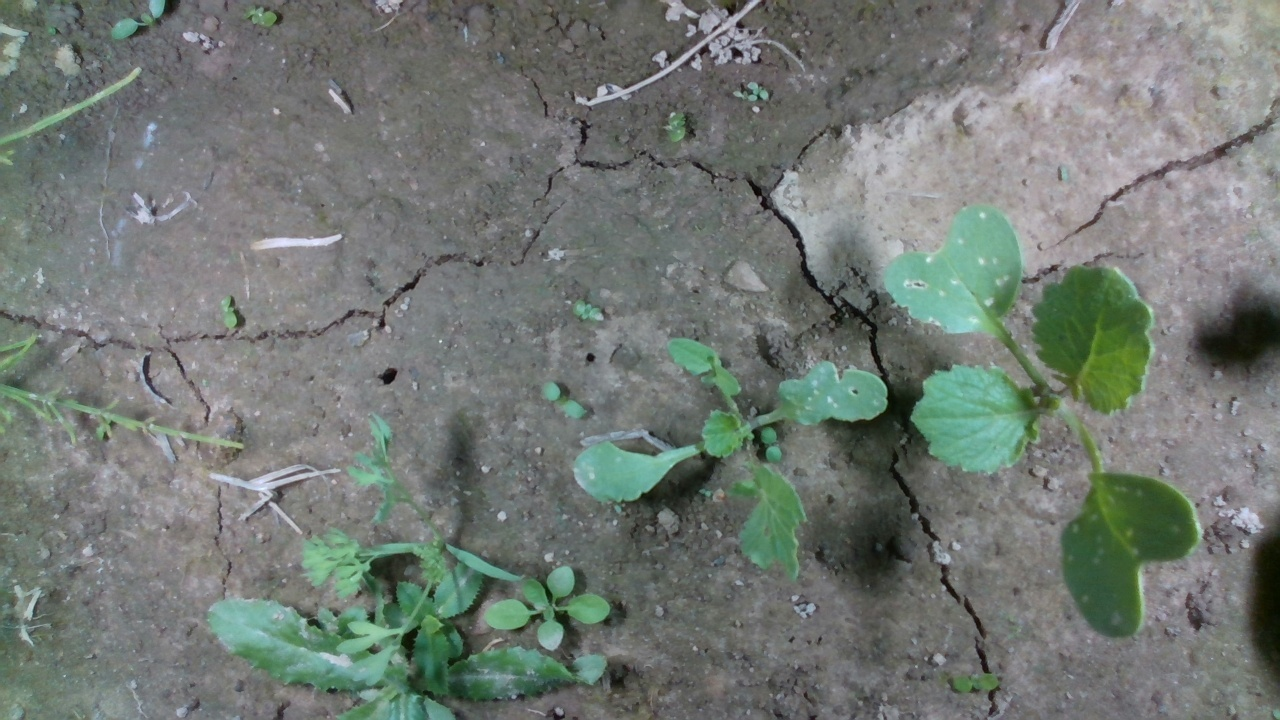weed: (537, 378, 598, 429), (214, 293, 253, 344), (950, 663, 994, 696), (664, 112, 689, 147), (734, 77, 758, 113), (574, 298, 605, 324), (251, 6, 270, 39)
